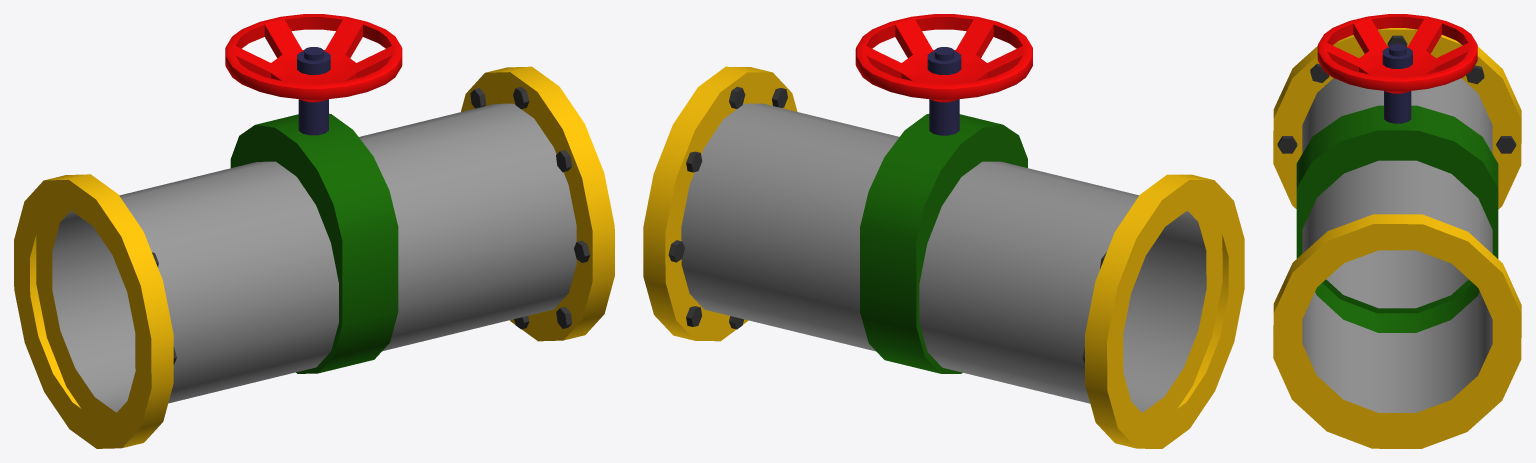
File: pipe valve.fbx
3 views of the same model, side by side, from view 1: azimuth 30°, elevation 25°; view 2: azimuth 150°, elevation 25°; view 3: azimuth 270°, elevation 25° (orthographic). The views are drawn at different scales.
Visible parts, largest first — view 1: Valve_Pipe; view 2: Valve_Pipe; view 3: Valve_Pipe.
Boxes of the visible parts, x1=… form: Valve_Pipe: x1=14, y1=14, x2=614, y2=448; Valve_Pipe: x1=643, y1=14, x2=1244, y2=448; Valve_Pipe: x1=1273, y1=14, x2=1521, y2=448.
Bounding box in the file's own units: 62.82 × 42.98 × 32.28.
